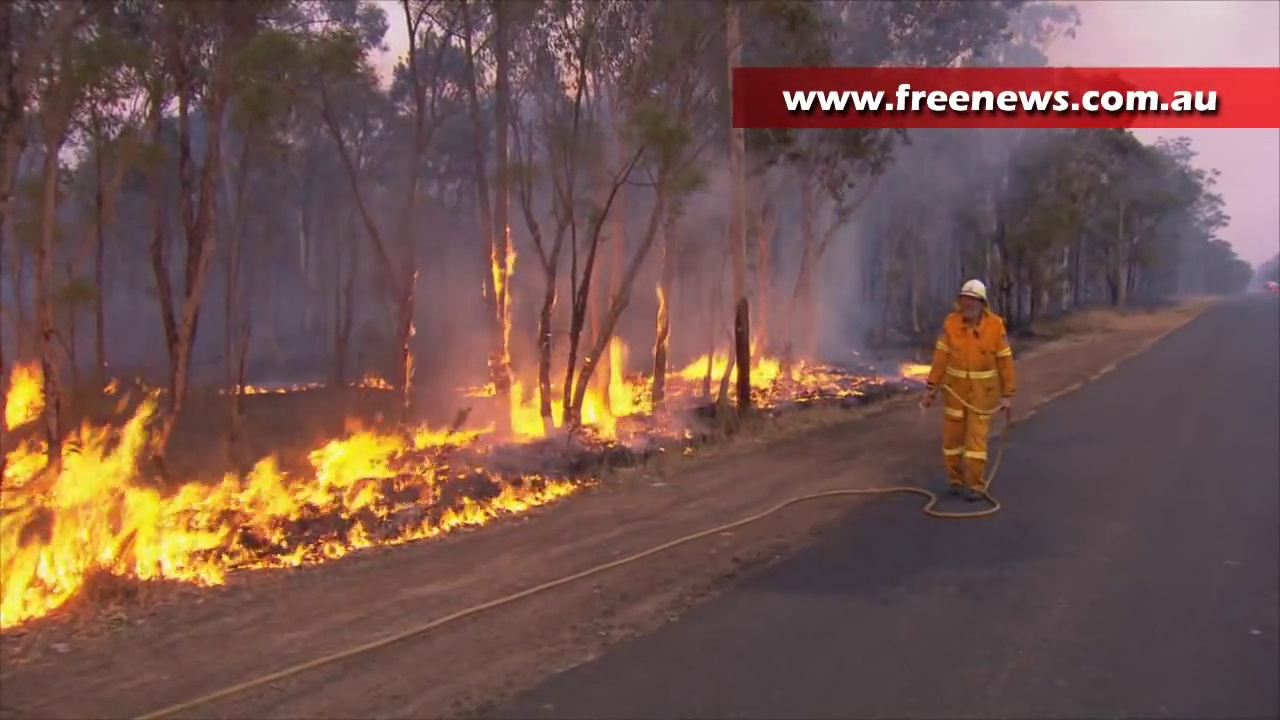fire: (1, 420, 472, 615), (517, 340, 625, 440), (683, 348, 781, 389), (3, 354, 49, 428)
